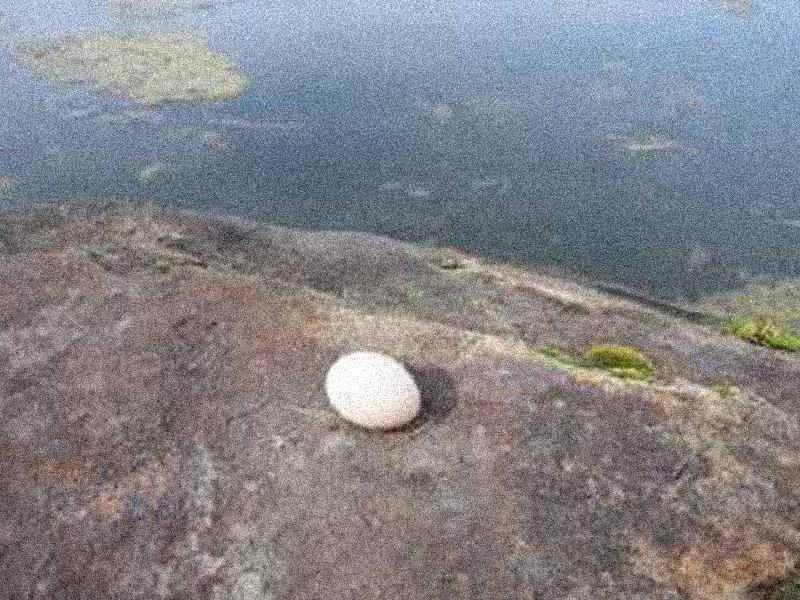Eggs: (320, 349, 419, 427)
